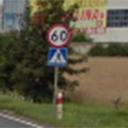speed_limit_60: (46, 22, 73, 49)
